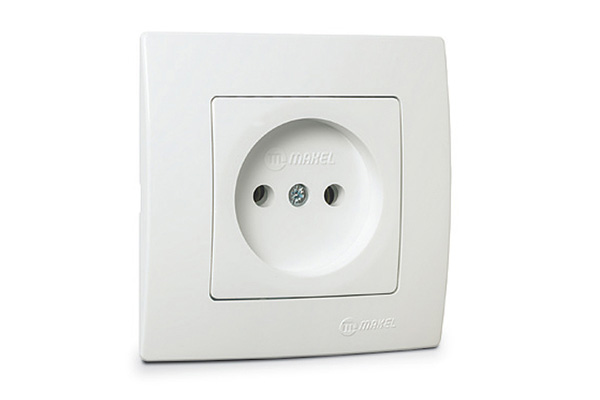raccoon: (231, 118, 386, 280)
